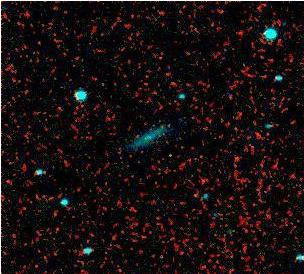star: (152, 136, 182, 166)
